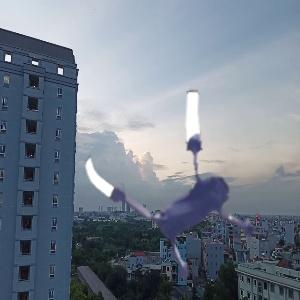drone: (80, 83, 294, 297)
